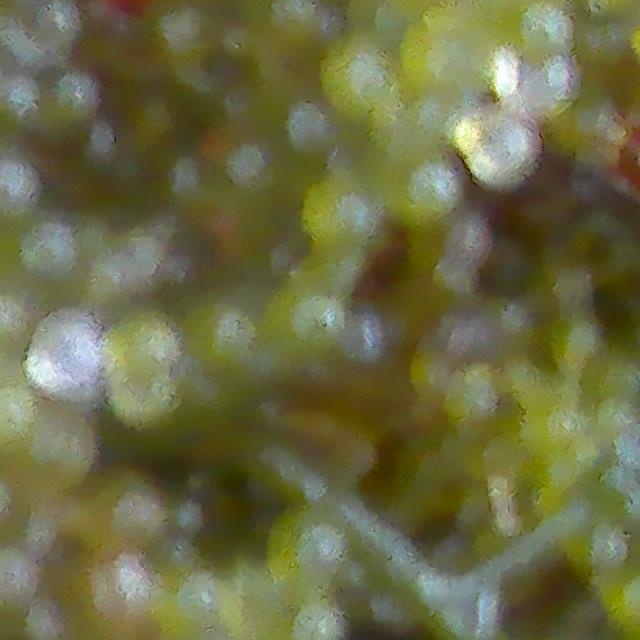SeaGrape: (21, 307, 112, 400), (460, 109, 537, 188), (487, 46, 574, 115), (392, 159, 460, 227)
